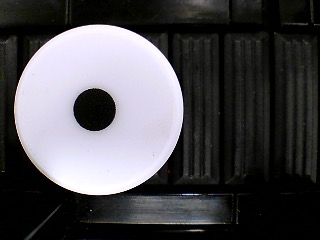BOHO: (13, 23, 184, 196)
